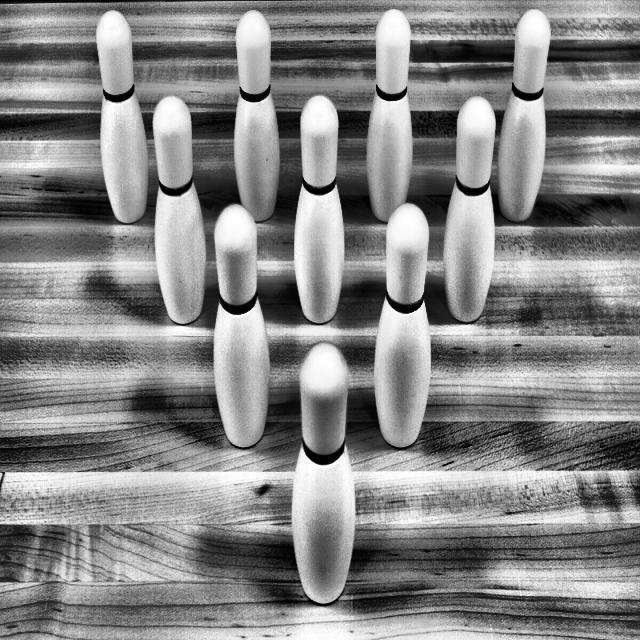bowling-pins: (292, 342, 356, 604), (375, 202, 431, 448), (213, 203, 269, 448), (152, 94, 206, 324), (444, 95, 497, 322), (294, 94, 345, 324), (95, 9, 148, 223), (499, 8, 551, 221), (367, 8, 413, 221), (234, 9, 279, 221)
